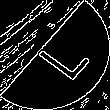L_NW: (23, 27, 87, 83)
